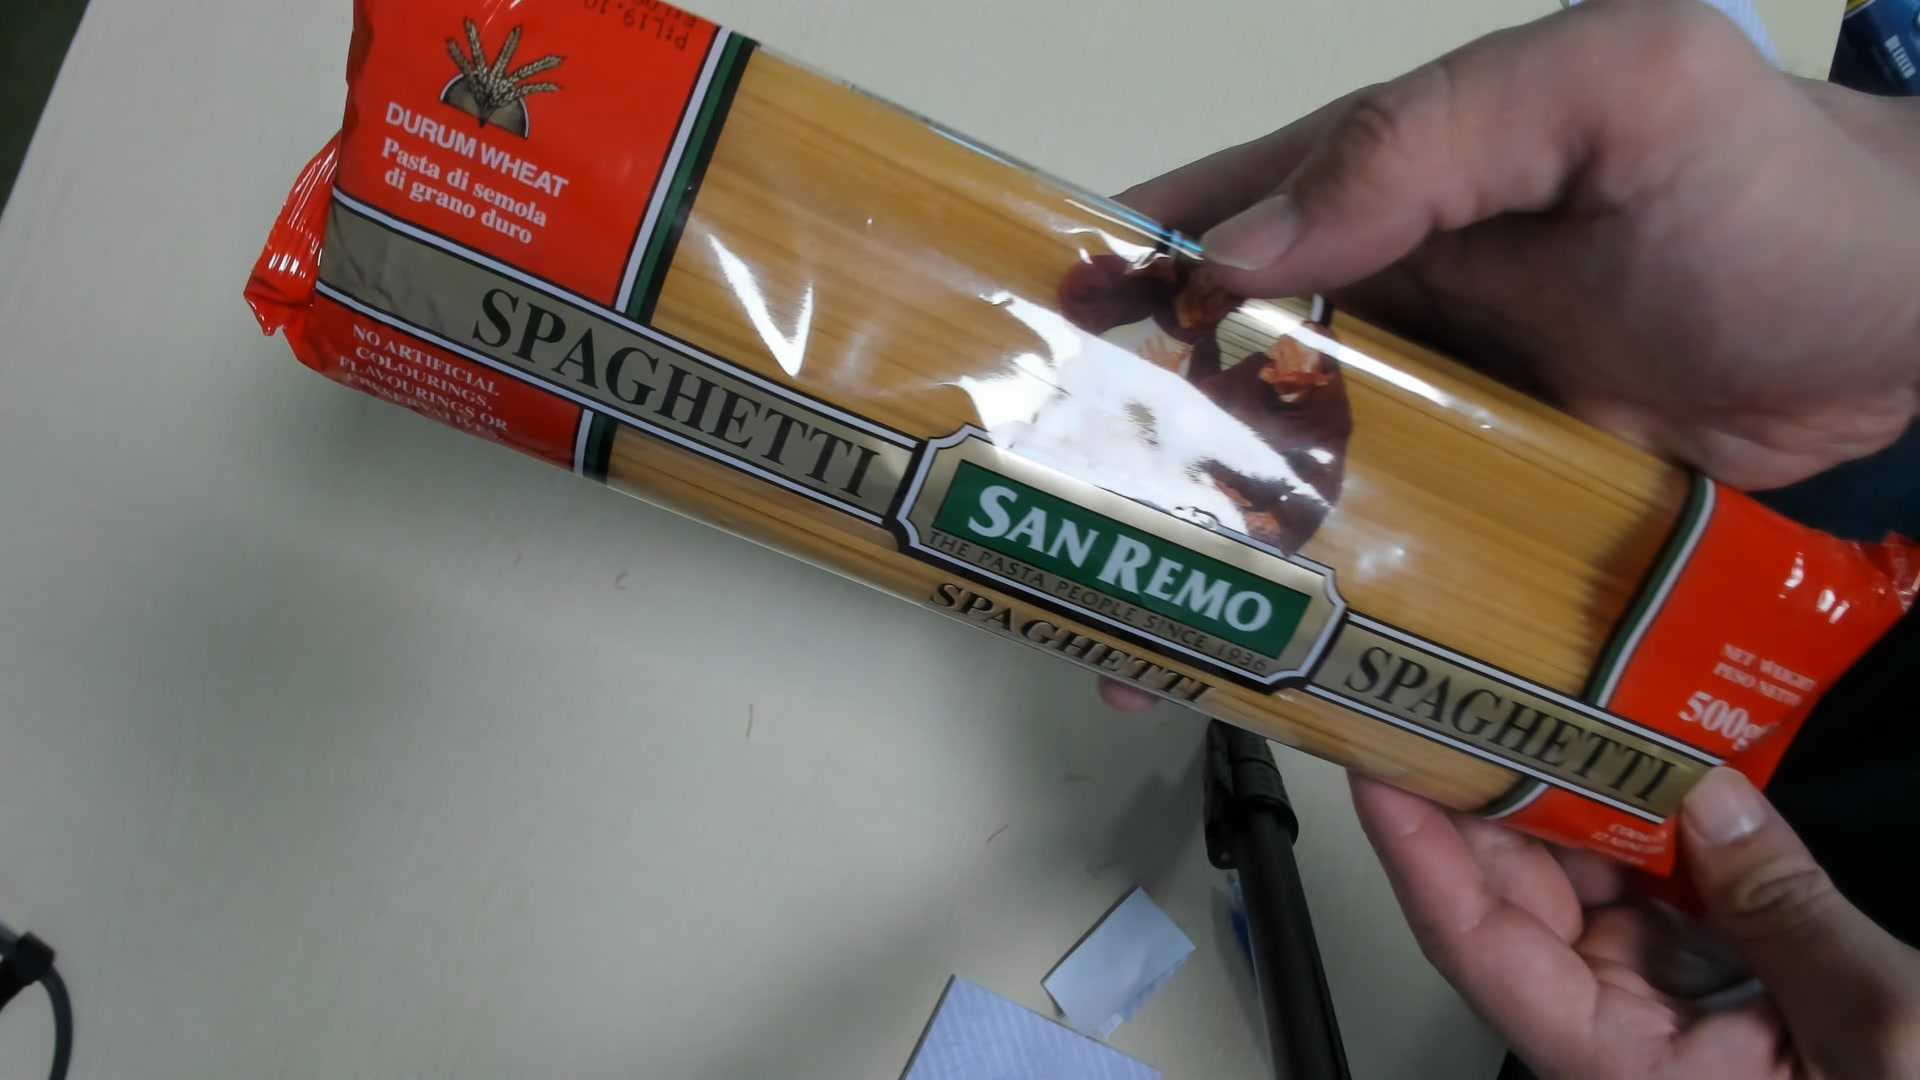Pasta_500-599g_Halal_NonHealthy: (241, 7, 1913, 873)
